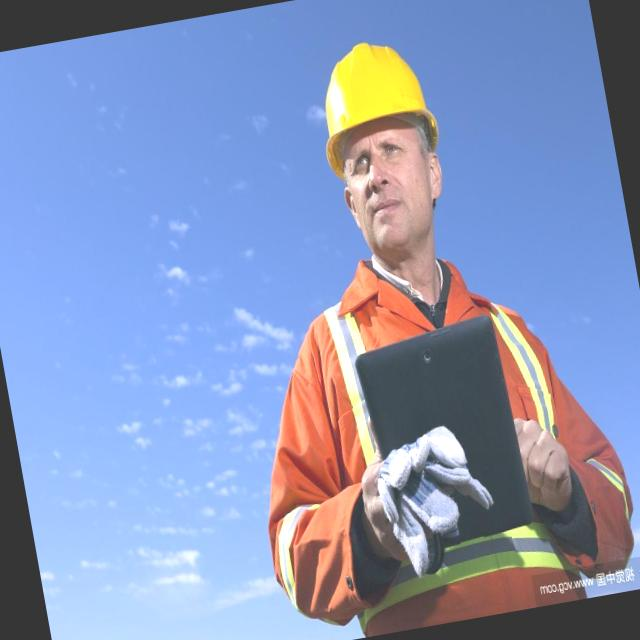helmet: (304, 29, 442, 158)
vest: (298, 284, 586, 616)
